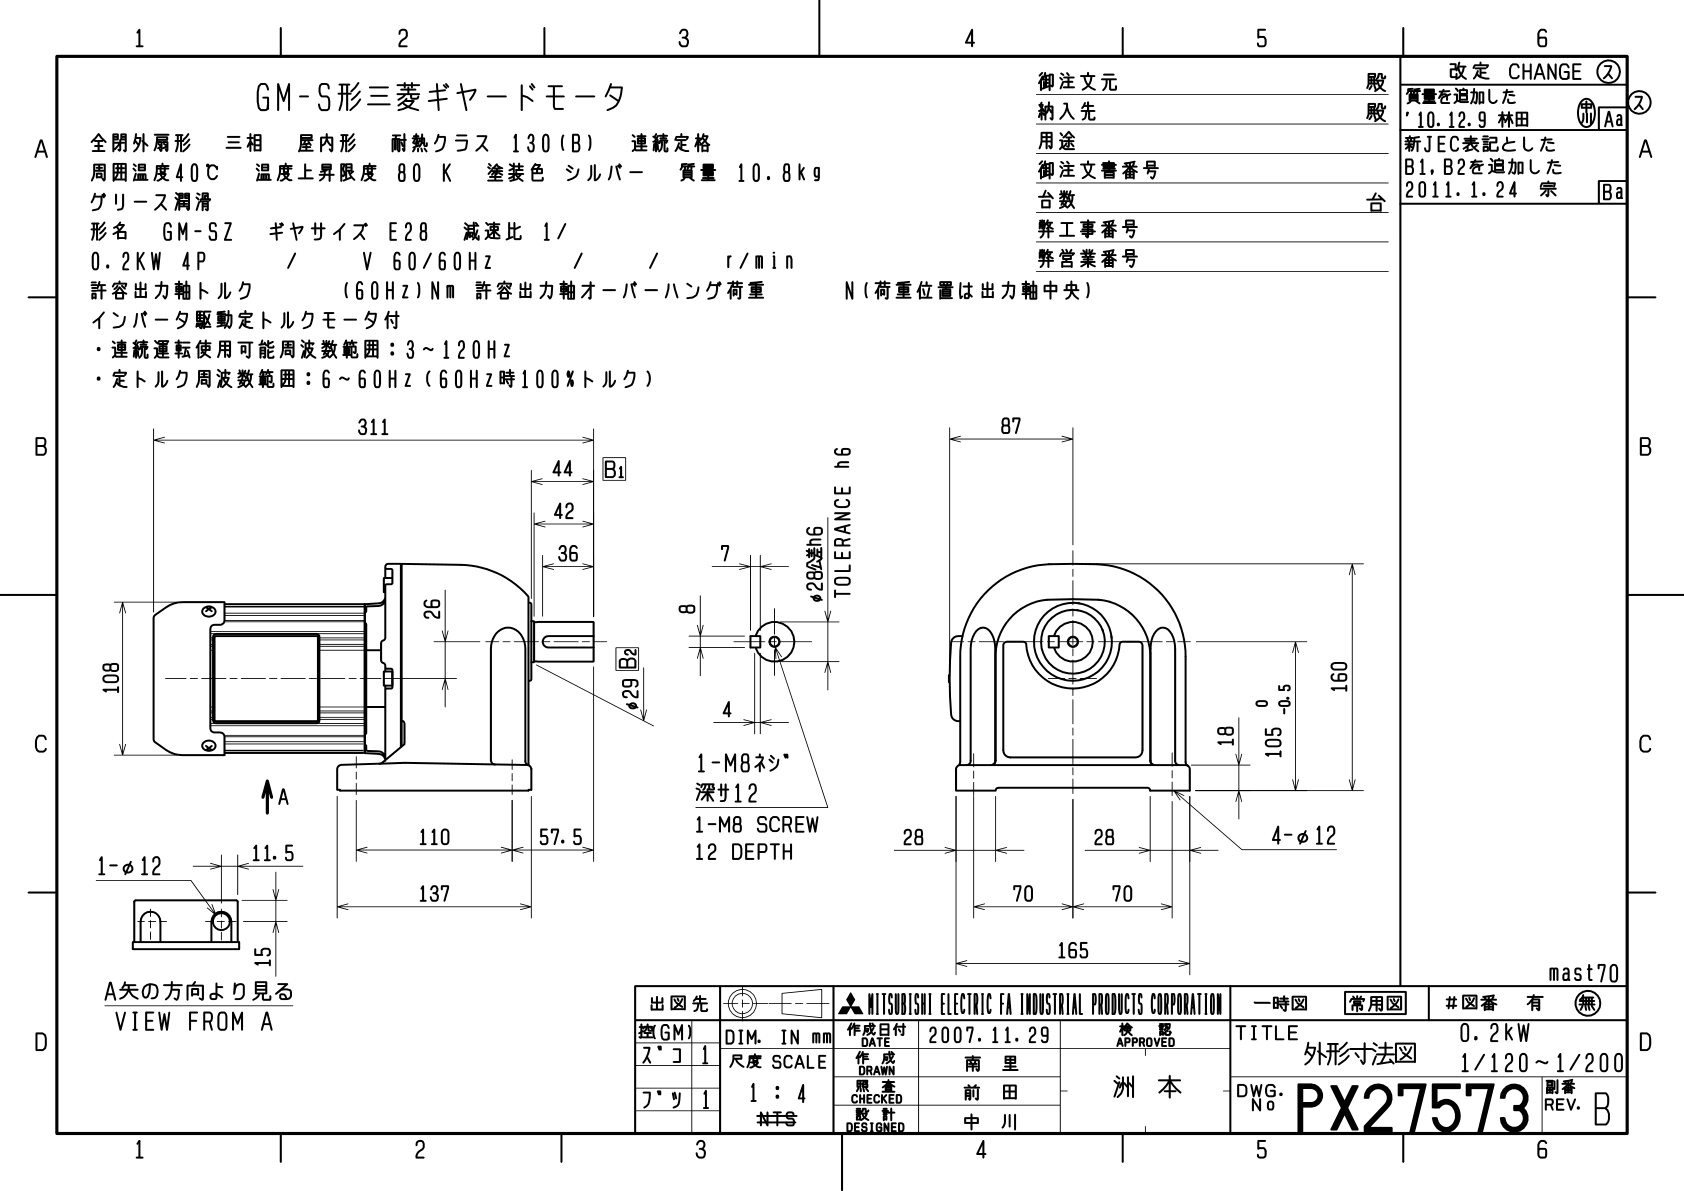GM_S_インバタ屋外＿三相_脚: (77, 400, 1367, 980)
